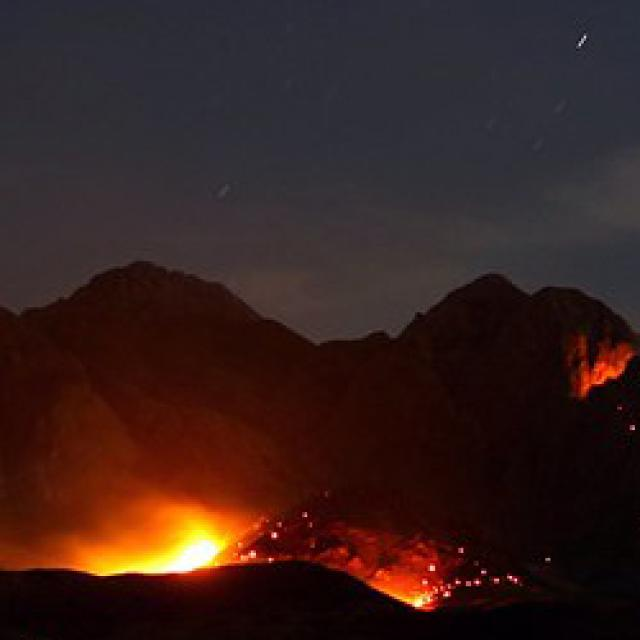Fire: (126, 530, 224, 576), (579, 340, 631, 392), (393, 580, 453, 608), (237, 519, 255, 562), (264, 516, 286, 538), (454, 573, 480, 590), (494, 573, 518, 582), (302, 508, 313, 526)
Smoke: (0, 399, 233, 581)
